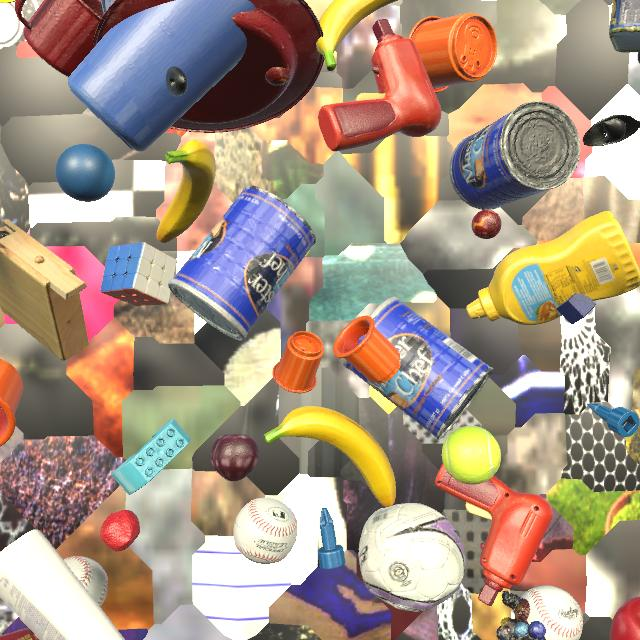ycb_002_master_chef_can: (168, 186, 316, 341), (342, 297, 493, 440), (449, 101, 581, 210)
ycb_003_cracker_box: (0, 628, 40, 640)
ycb_006_mustard_bottle: (466, 211, 640, 325)
ycb_010_potted_meat_can: (609, 0, 640, 53)
ycb_011_banana: (263, 406, 396, 507), (157, 139, 216, 243), (316, 0, 398, 71)
ycb_012_strawberry: (100, 510, 140, 551)
ycb_013_apple: (610, 597, 640, 640)
ycb_018_plum: (210, 434, 259, 481)
